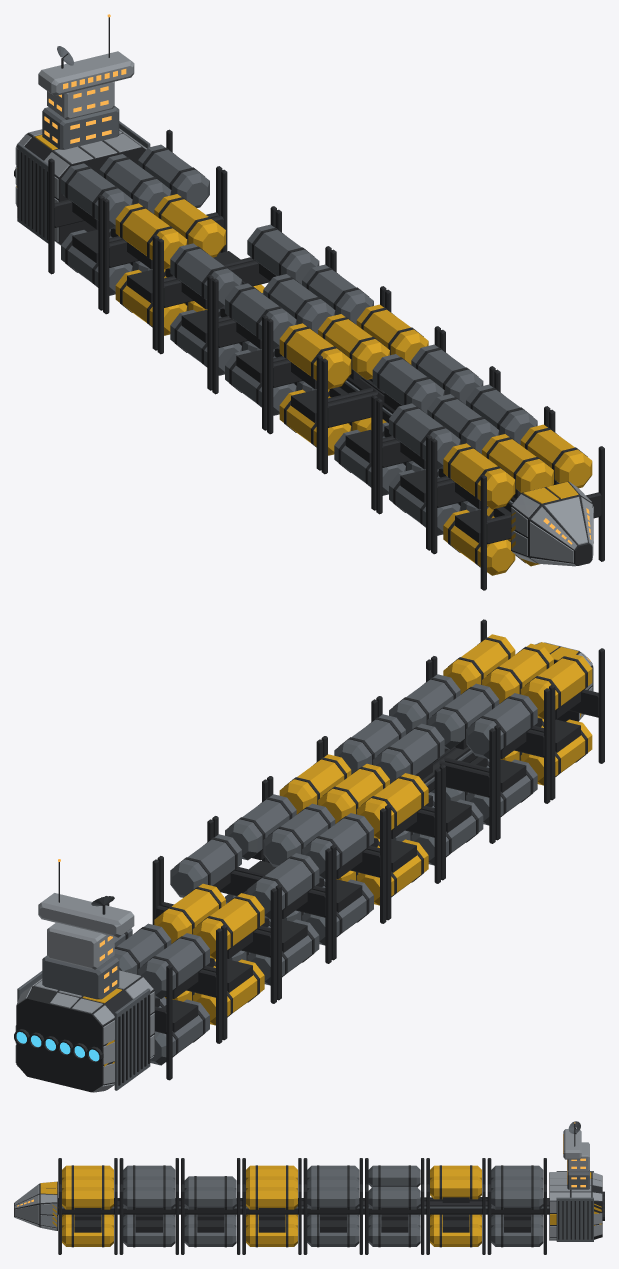
Rendered from freighter.glb.
3 views of the same model, one above another, from view 1: azimuth 30°, elevation 25°; view 2: azimuth 150°, elevation 25°; view 3: azimuth 270°, elevation 25° (orthographic). The views are drawn at different scales.
Visible parts, largest first — view 1: structure, accent2, accent, primary, windows; view 2: structure, accent2, accent, primary; view 3: structure, accent2, accent, primary, windows.
Part boxes in pixels (x1=…): structure: x1=14, y1=17, x2=604, y2=590; accent2: x1=17, y1=46, x2=537, y2=535; accent: x1=16, y1=135, x2=592, y2=575; primary: x1=15, y1=51, x2=593, y2=566; windows: x1=44, y1=14, x2=591, y2=544; structure: x1=14, y1=619, x2=604, y2=1092; accent2: x1=17, y1=674, x2=537, y2=1090; accent: x1=82, y1=634, x2=592, y2=1066; primary: x1=15, y1=642, x2=593, y2=1092; structure: x1=14, y1=1123, x2=604, y2=1254; accent2: x1=58, y1=1121, x2=593, y2=1246; accent: x1=40, y1=1165, x2=601, y2=1246; primary: x1=14, y1=1129, x2=602, y2=1240; windows: x1=17, y1=1122, x2=585, y2=1206.
Bounding box in the file's own units: 13.64 × 23.28 × 102.
